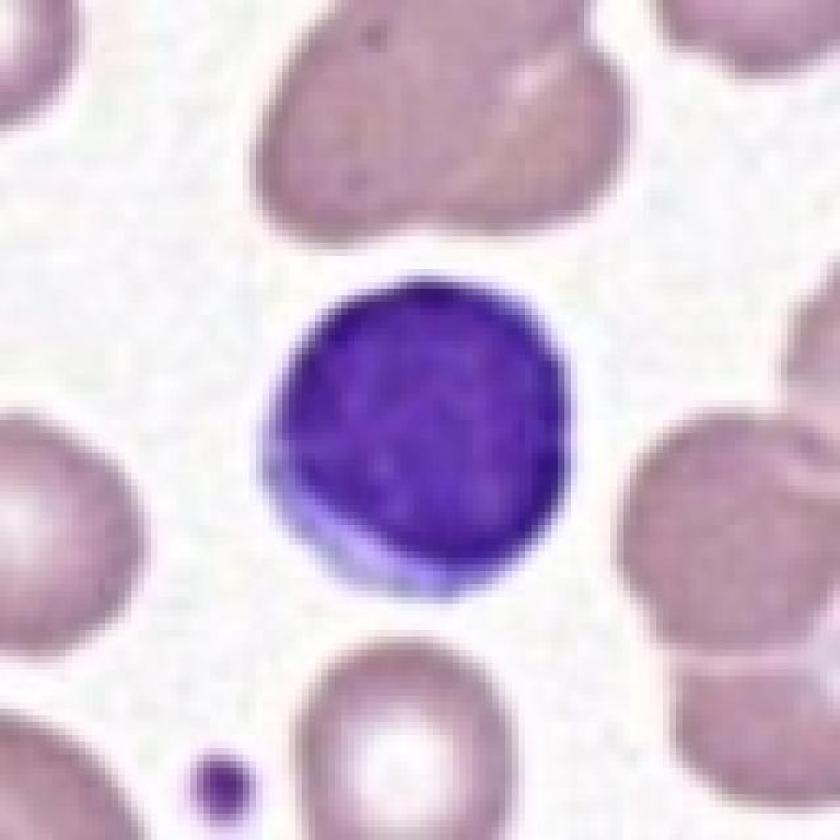lymphocyte: (249, 269, 590, 607)
